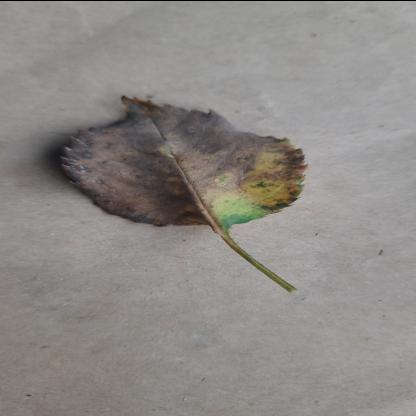black-spot: (56, 90, 312, 228)
